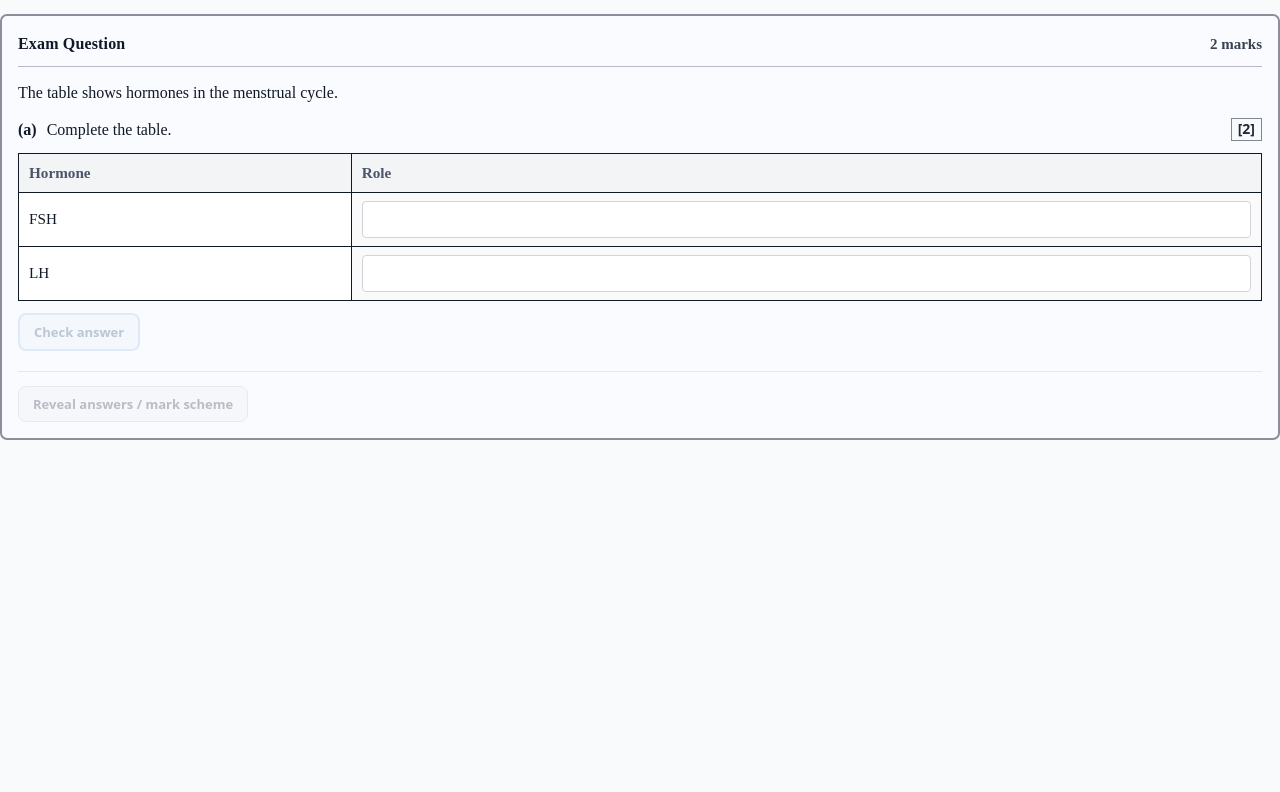
Test case: ExamQuestionBlock table composite (TABLE_PARTS_ENABLED ON) › marks table part with feedback panel
Type "Stimulates follicles" into the field with test id "exam-composite-table-input-0-0-1". click: [806, 220]
box: [362,201,1251,238]
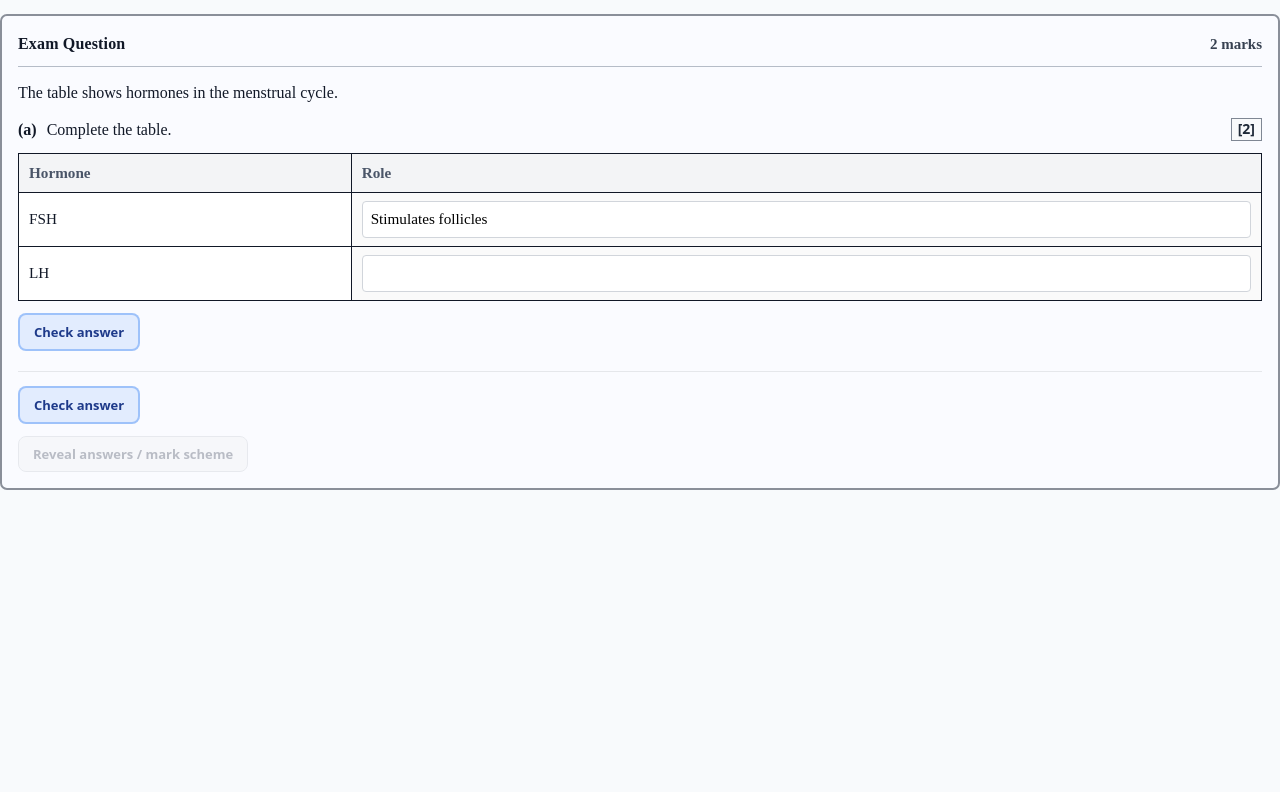
Type "Triggers ovulation" into the field with test id "exam-composite-table-input-0-1-1". click: [806, 274]
box: [362,255,1251,292]
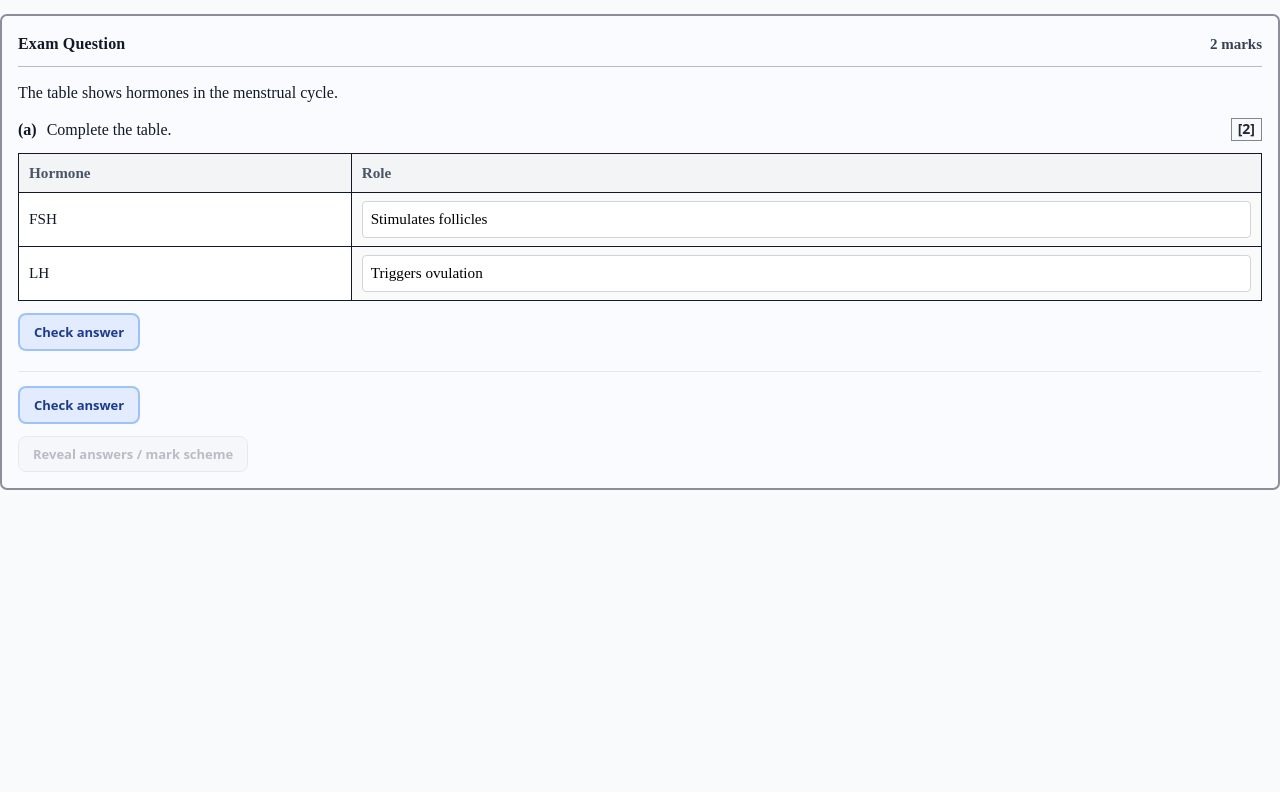
Click the button with test id "exam-composite-check-all-btn". click: [79, 405]
box: [18,386,140,424]
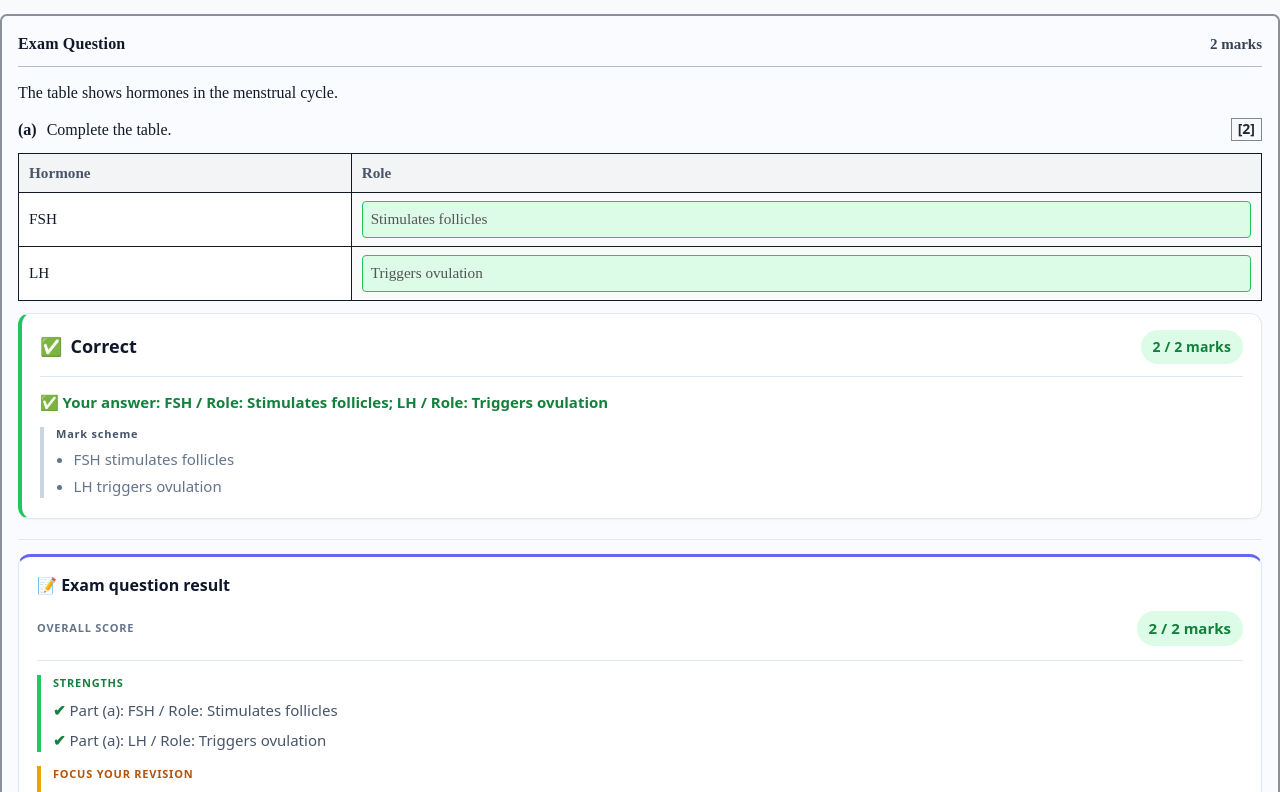
Expected: the element with test id "exam-composite-part-marking-0" is shown, [18,313,1262,520]
Expected: the element with test id "answer-feedback-hero" shows "Correct", [70,334,137,358]
Expected: the text with test id "answer-feedback-score-badge" reads "2 / 2 marks", [1140,330,1243,364]
